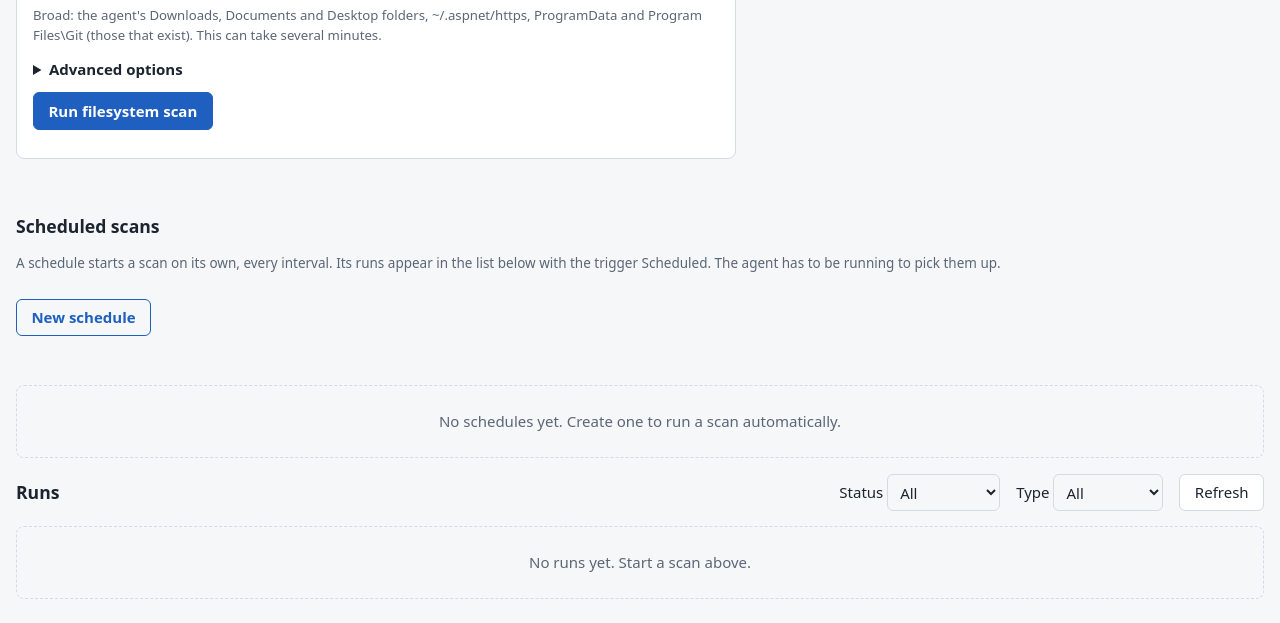
Test case: the Scheduled scans section on the Runs page › creates a schedule from the page
(page scrolled)
Check: the text "No schedules yet. Create one to run a scan automatically." is shown, box x1=16 y1=386 x2=1264 y2=458
Click the heading "New schedule". click: point(84, 317)
box: x1=16 y1=299 x2=151 y2=336
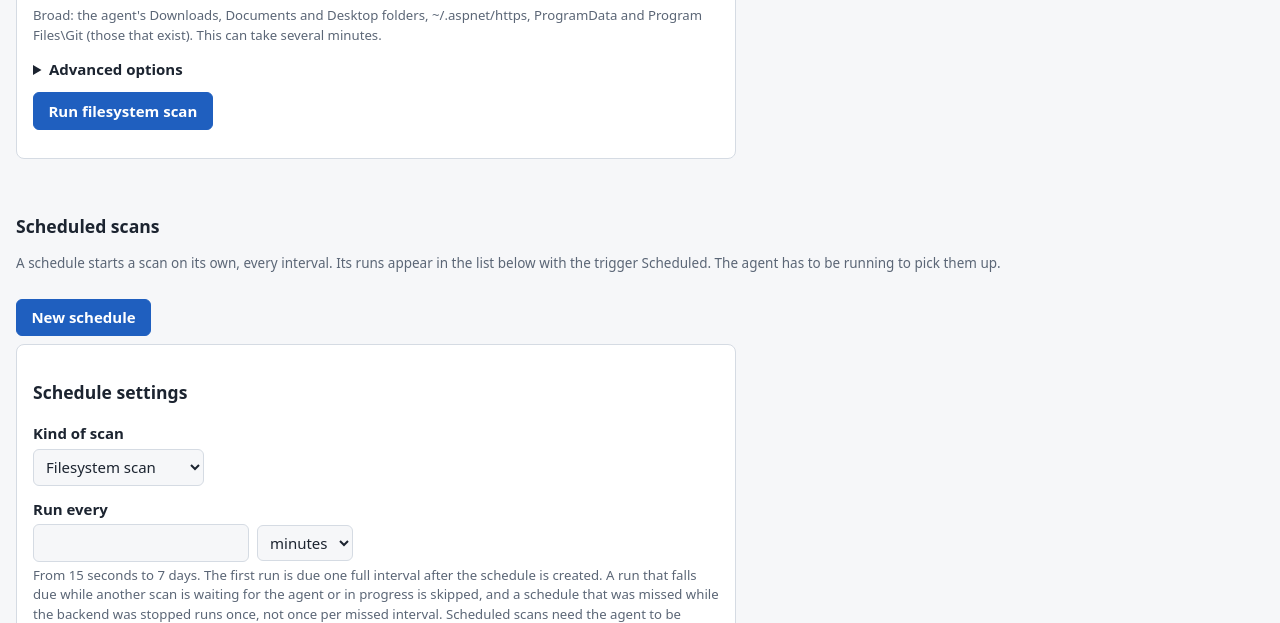
Select "TLS metadata scan" in the dropdown labelled "Kind of scan". click: point(118, 467)
box: x1=33 y1=449 x2=204 y2=486
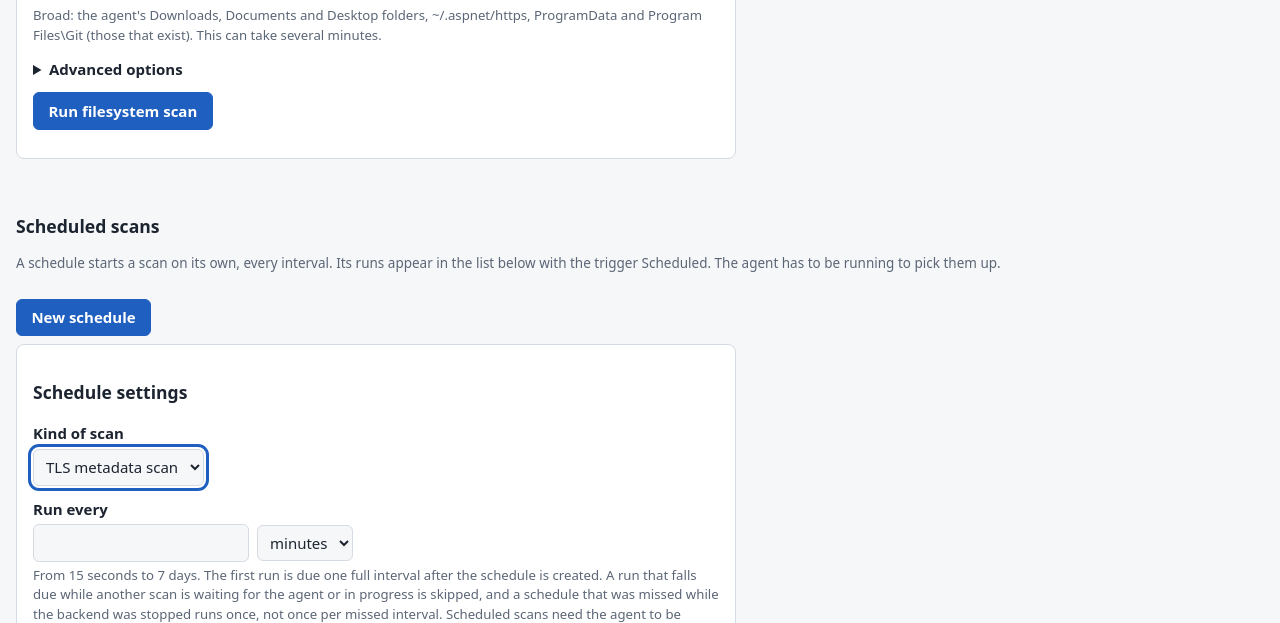
Type "30" into the field labelled "Run every". click: point(141, 543)
box: x1=33 y1=524 x2=249 y2=562
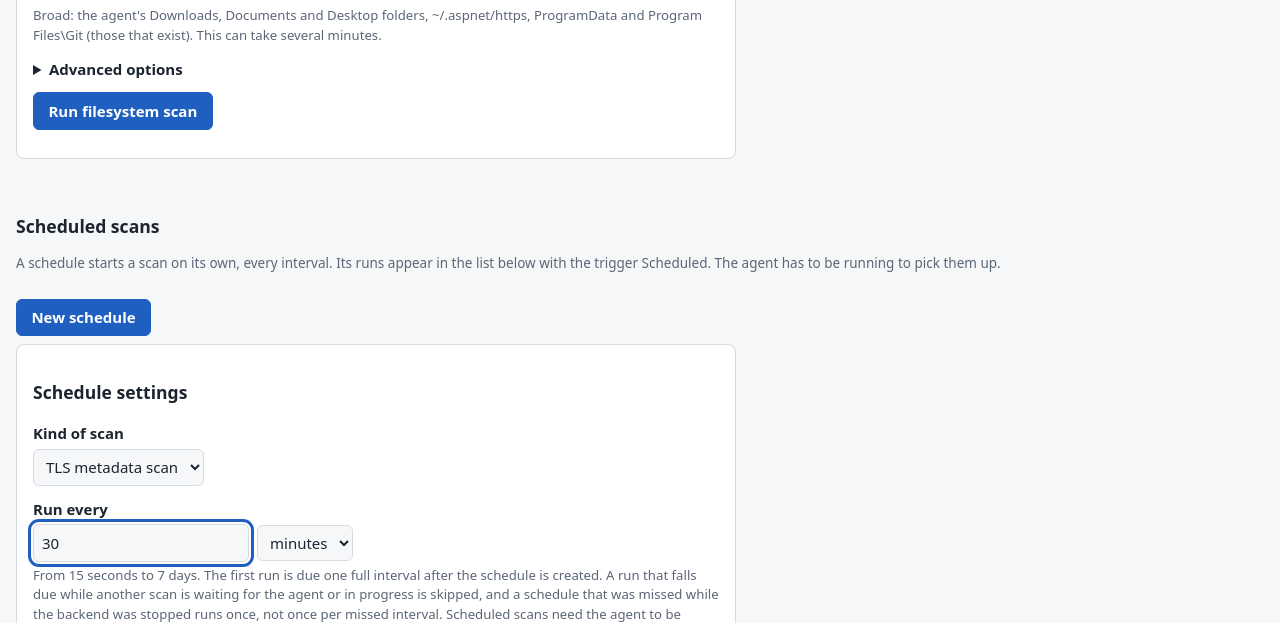
Select "seconds" in the dropdown named "Interval unit". click: point(305, 543)
box: x1=257 y1=524 x2=353 y2=561
(page scrolled)
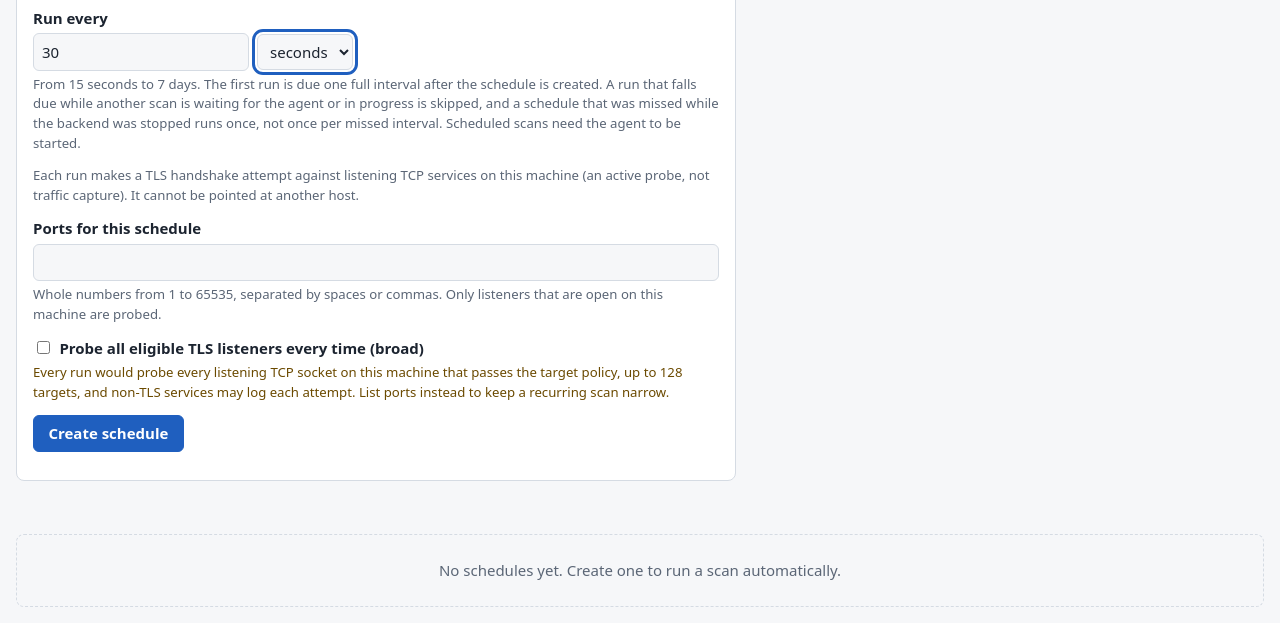
Type "8443" into the field labelled "Ports for this schedule". click: point(376, 262)
box: x1=33 y1=244 x2=719 y2=281
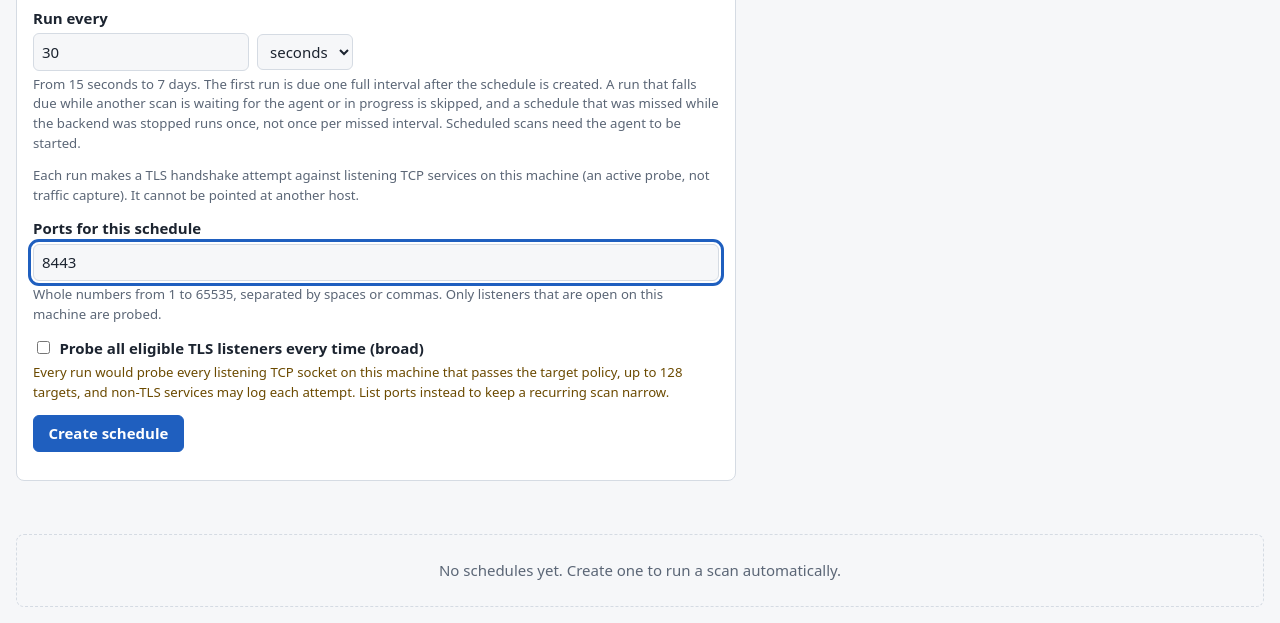
Click the button "Create schedule". click: point(108, 433)
box: x1=33 y1=415 x2=184 y2=452
(page scrolled)
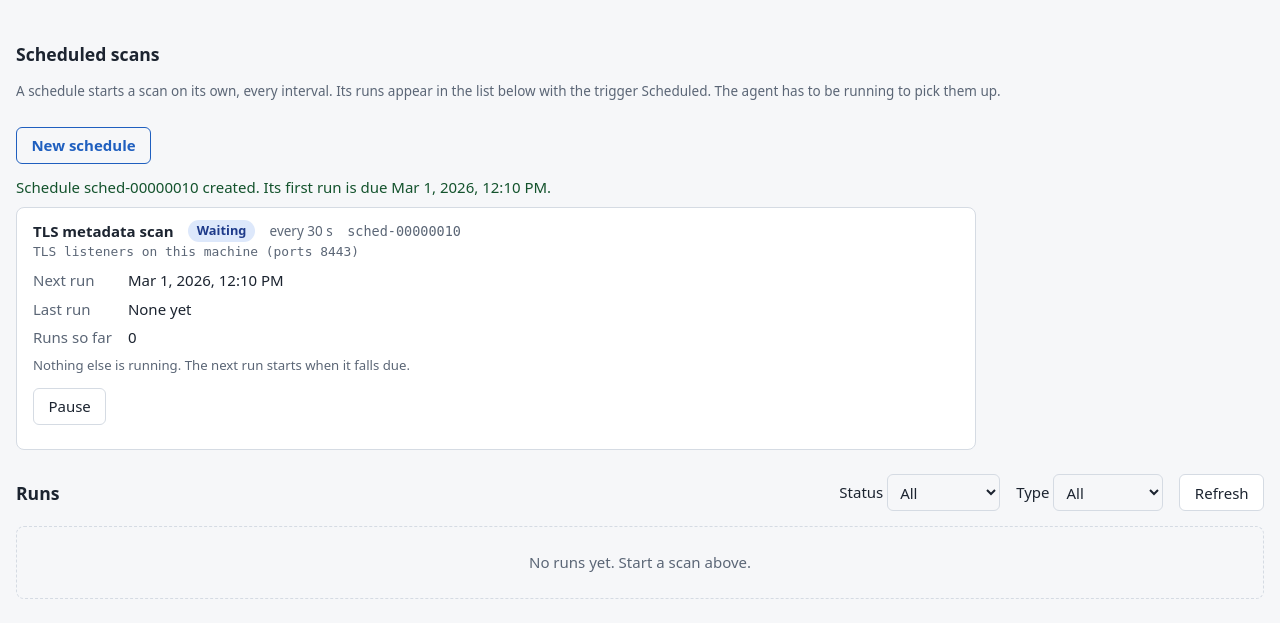
Check: the list item with aria-label "Schedule sched-" is shown, box x1=16 y1=207 x2=976 y2=450
